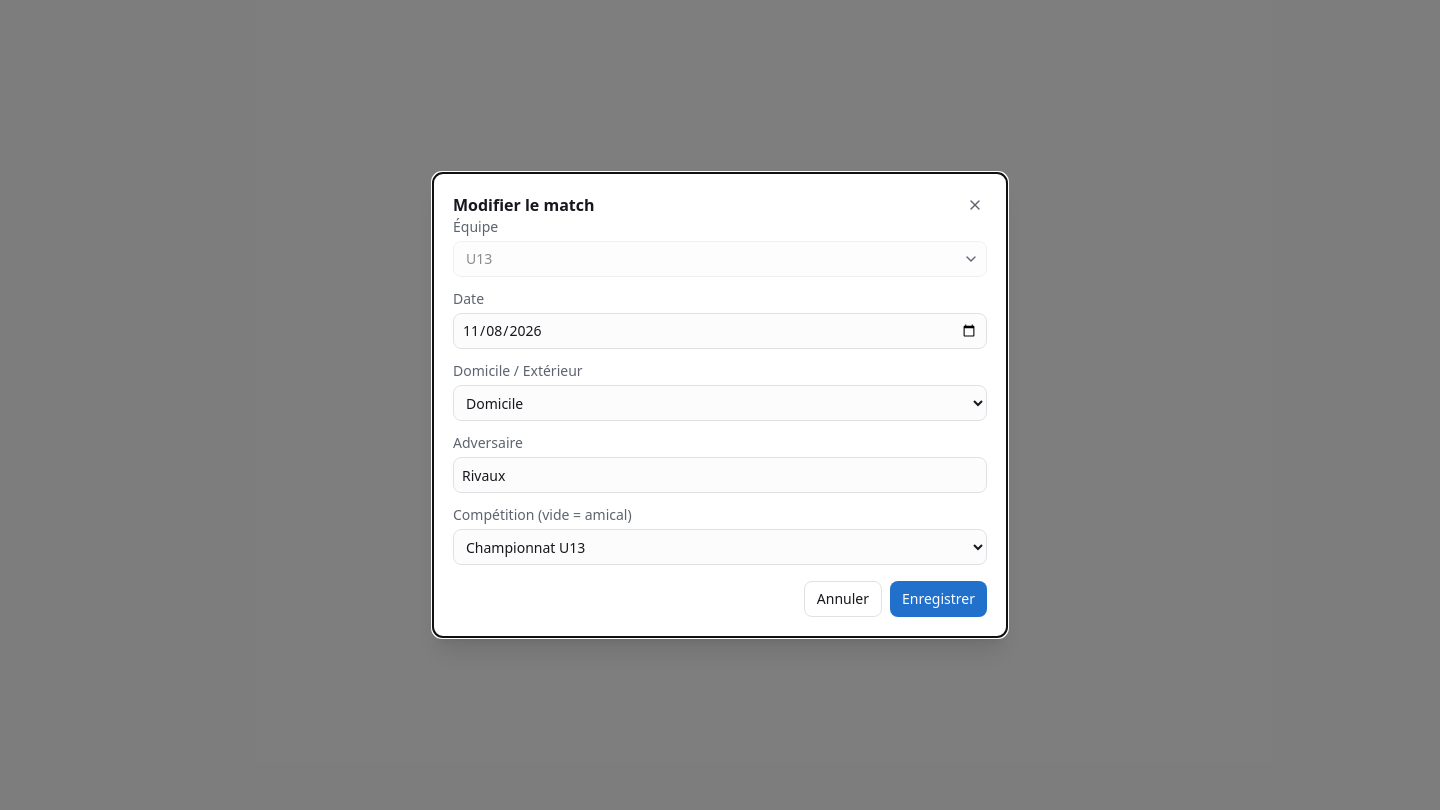
it: FixtureFormDialog › edit mode: switching to Extérieur warns that the slot will be freed
The image size is (1440, 810).
Select "Extérieur" in the dropdown named "Domicile ou extérieur" at (720, 403), box [453, 385, 987, 421]
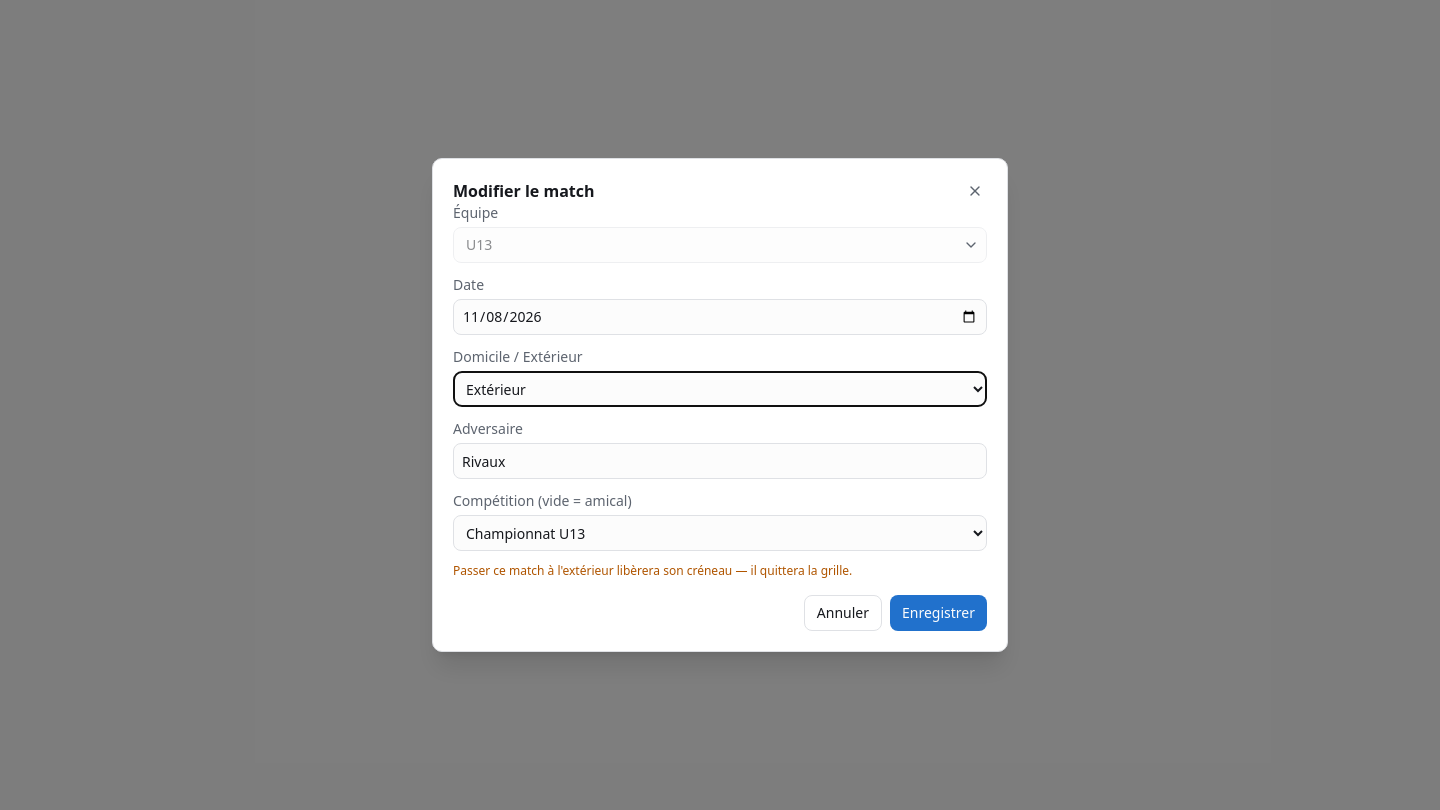
Expected: the text "libèrera son créneau" is shown, [453, 562, 852, 579]
